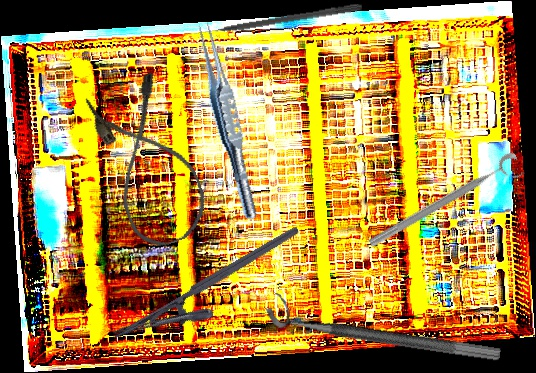Cannula: (82, 70, 217, 255)
Fixation Ring: (365, 150, 527, 260), (263, 291, 505, 363)
Needle Holder: (110, 224, 315, 366)
Pusher: (193, 1, 363, 38)
Tissue Forceps: (188, 17, 267, 223)
